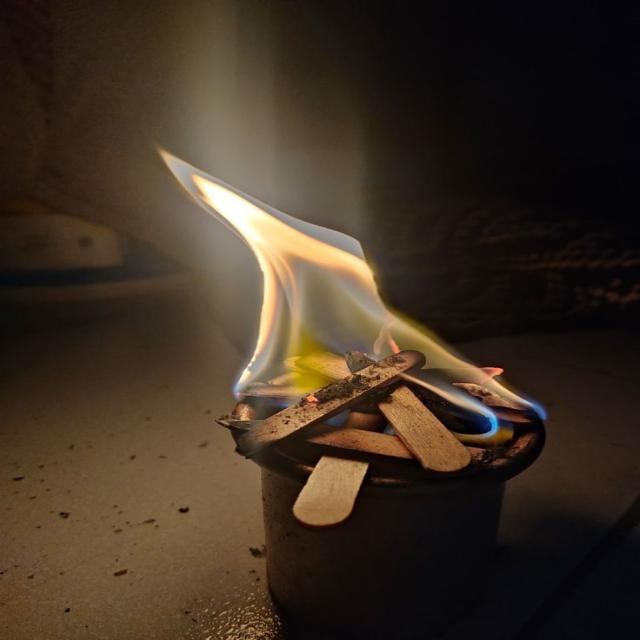fire: (158, 148, 546, 436)
